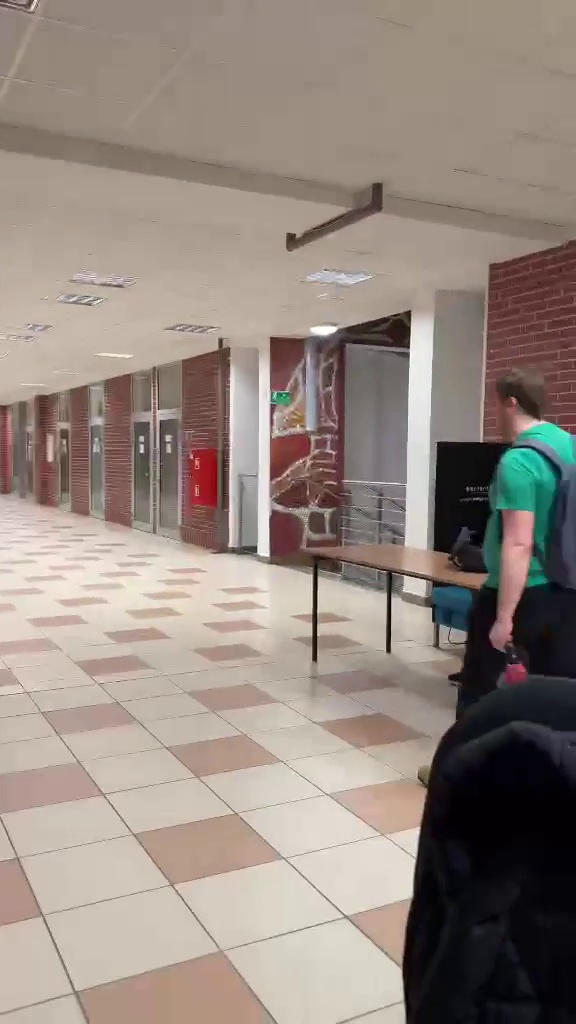no vest: (456, 363, 576, 716)
